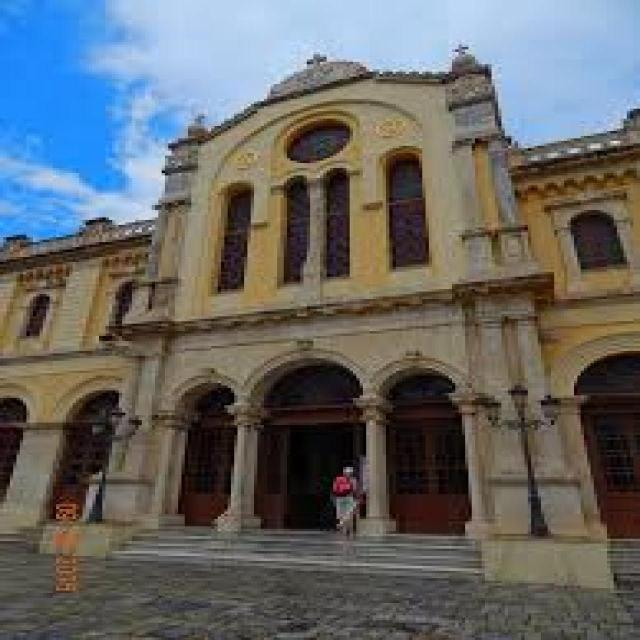Agios Minas: (1, 7, 640, 589)
